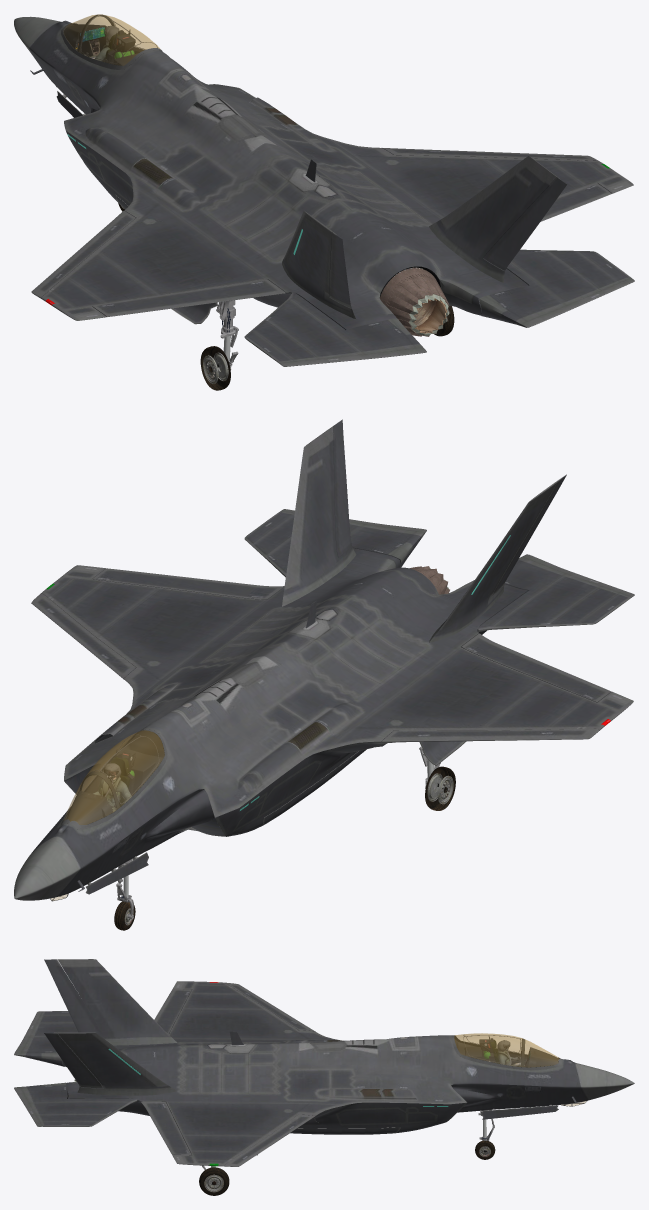
3 renders of one model, top to bottom at view 1: azimuth 30°, elevation 25°; view 2: azimuth 150°, elevation 25°; view 3: azimuth 270°, elevation 25°, orthographic. The views are drawn at different scales.
Visible parts, largest first — view 1: scene-f35-airframe; view 2: scene-f35-airframe; view 3: scene-f35-airframe.
Boxes of the visible parts, <box> form: scene-f35-airframe: <box>14,14,634,390</box>; scene-f35-airframe: <box>14,419,634,930</box>; scene-f35-airframe: <box>14,959,634,1195</box>.
Size of the model in its own units: 10.95 by 4.55 by 15.7.
Materials: 9 (9 with a texture image).
